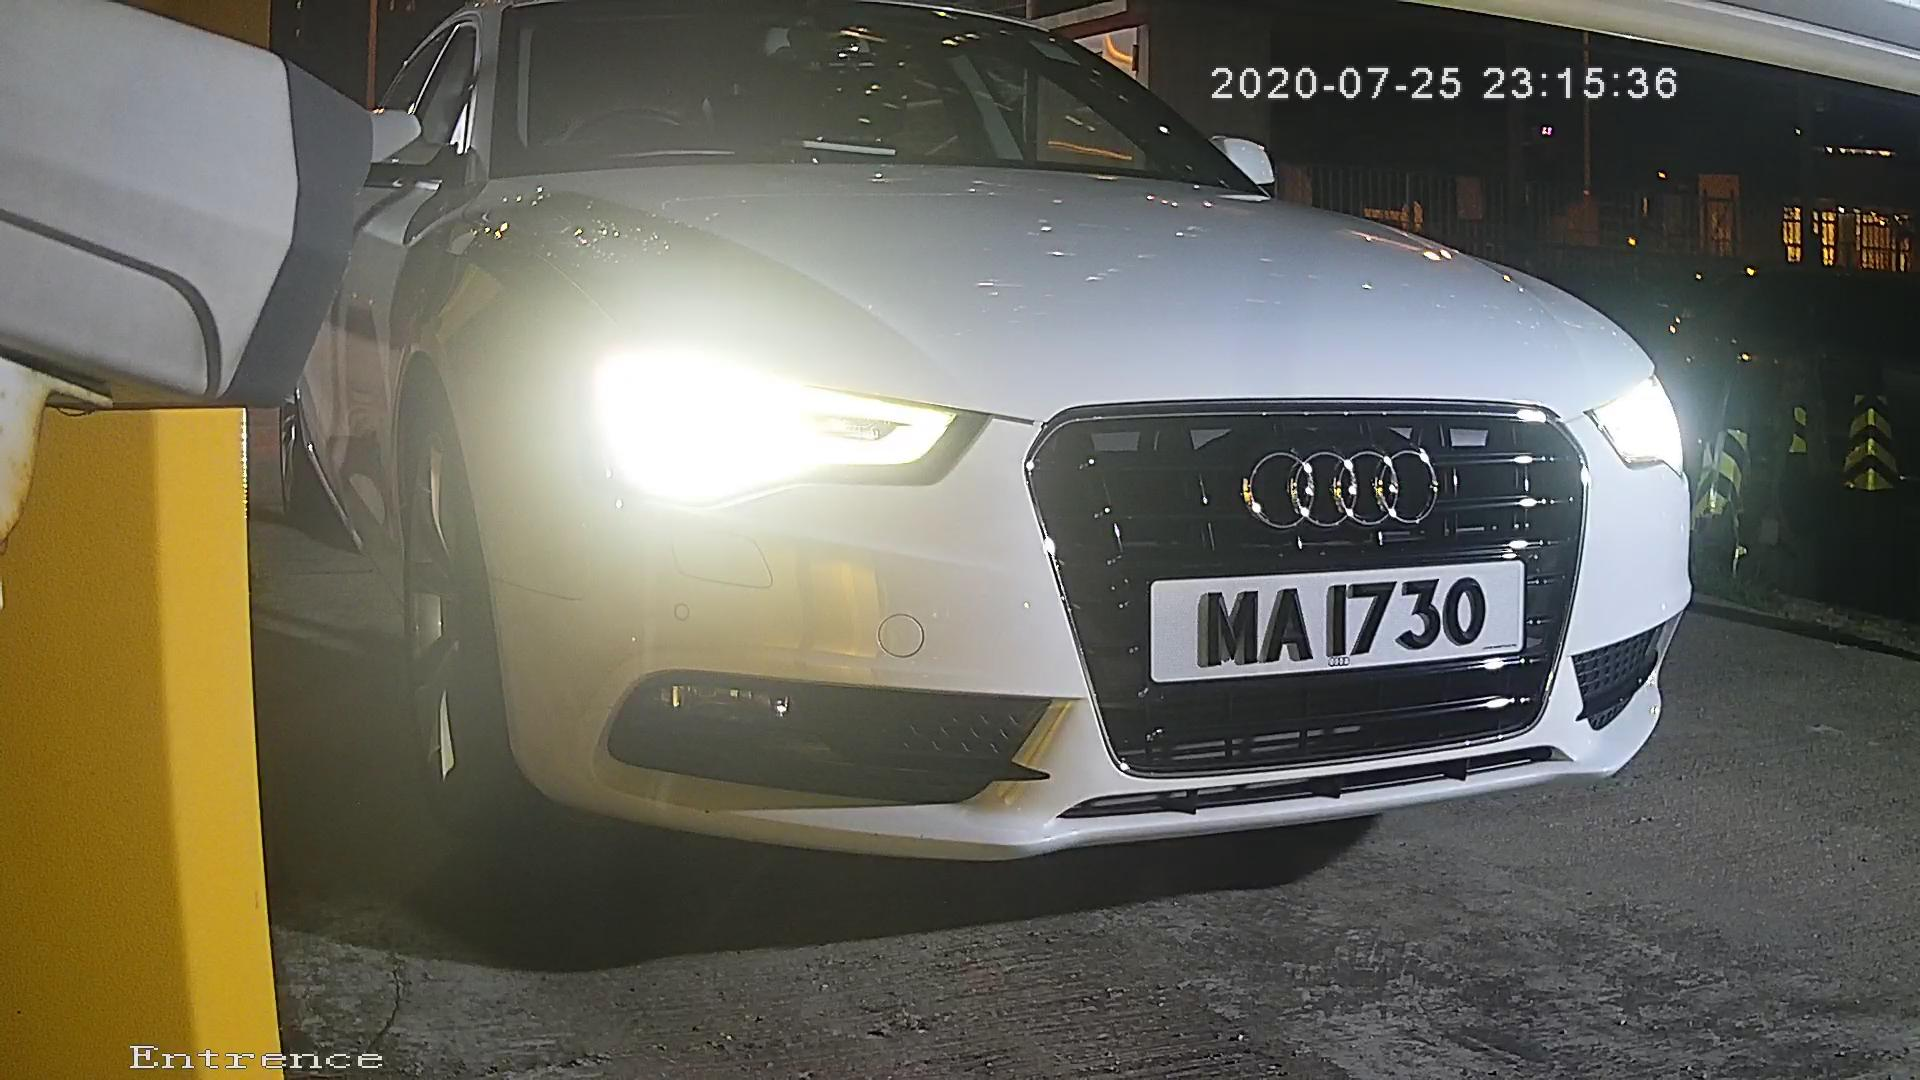Car: (163, 25, 1783, 907)
License Plate: (1132, 545, 1552, 700)
